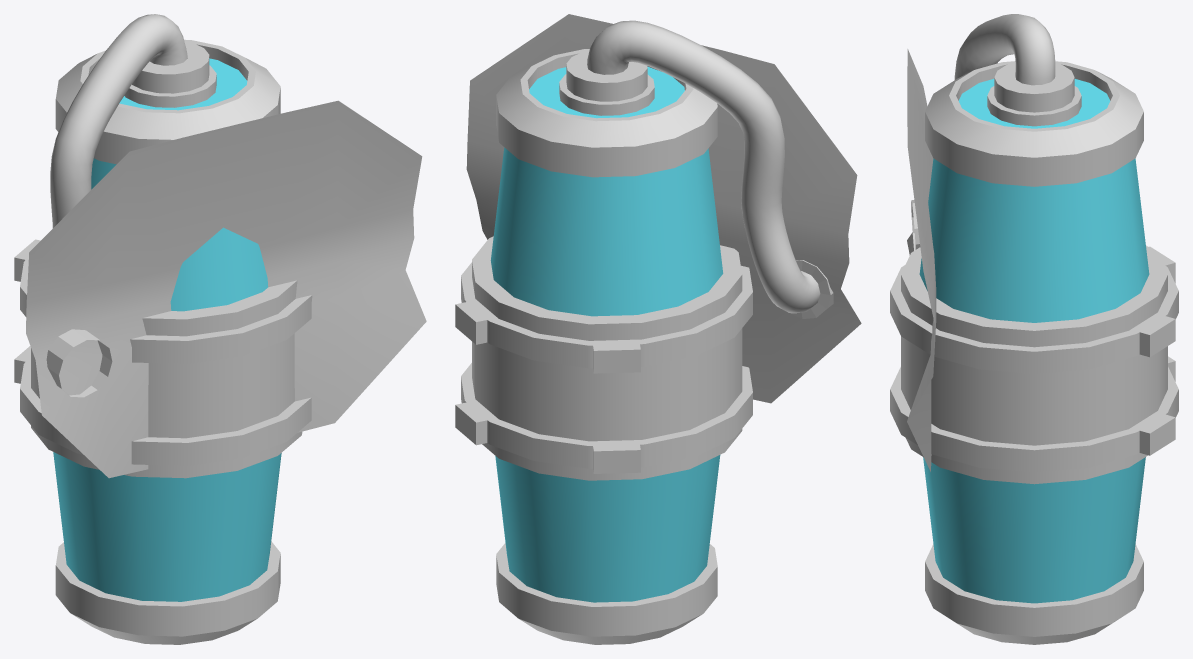
File: Mod_Backplate_Yuri2.fbx
3 views of the same model, side by side, from view 1: azimuth 30°, elevation 25°; view 2: azimuth 150°, elevation 25°; view 3: azimuth 270°, elevation 25° (orthographic). The views are drawn at different scales.
Parts seen in each view (by area): view 1: Mod_BackPlate_Yuri2; view 2: Mod_BackPlate_Yuri2; view 3: Mod_BackPlate_Yuri2.
Part boxes in pixels (x1,y1,x2,y2): Mod_BackPlate_Yuri2: [14, 14, 426, 644]; Mod_BackPlate_Yuri2: [455, 14, 861, 644]; Mod_BackPlate_Yuri2: [890, 14, 1178, 644].
Size of the model in its own units: 326 by 475 by 215.
